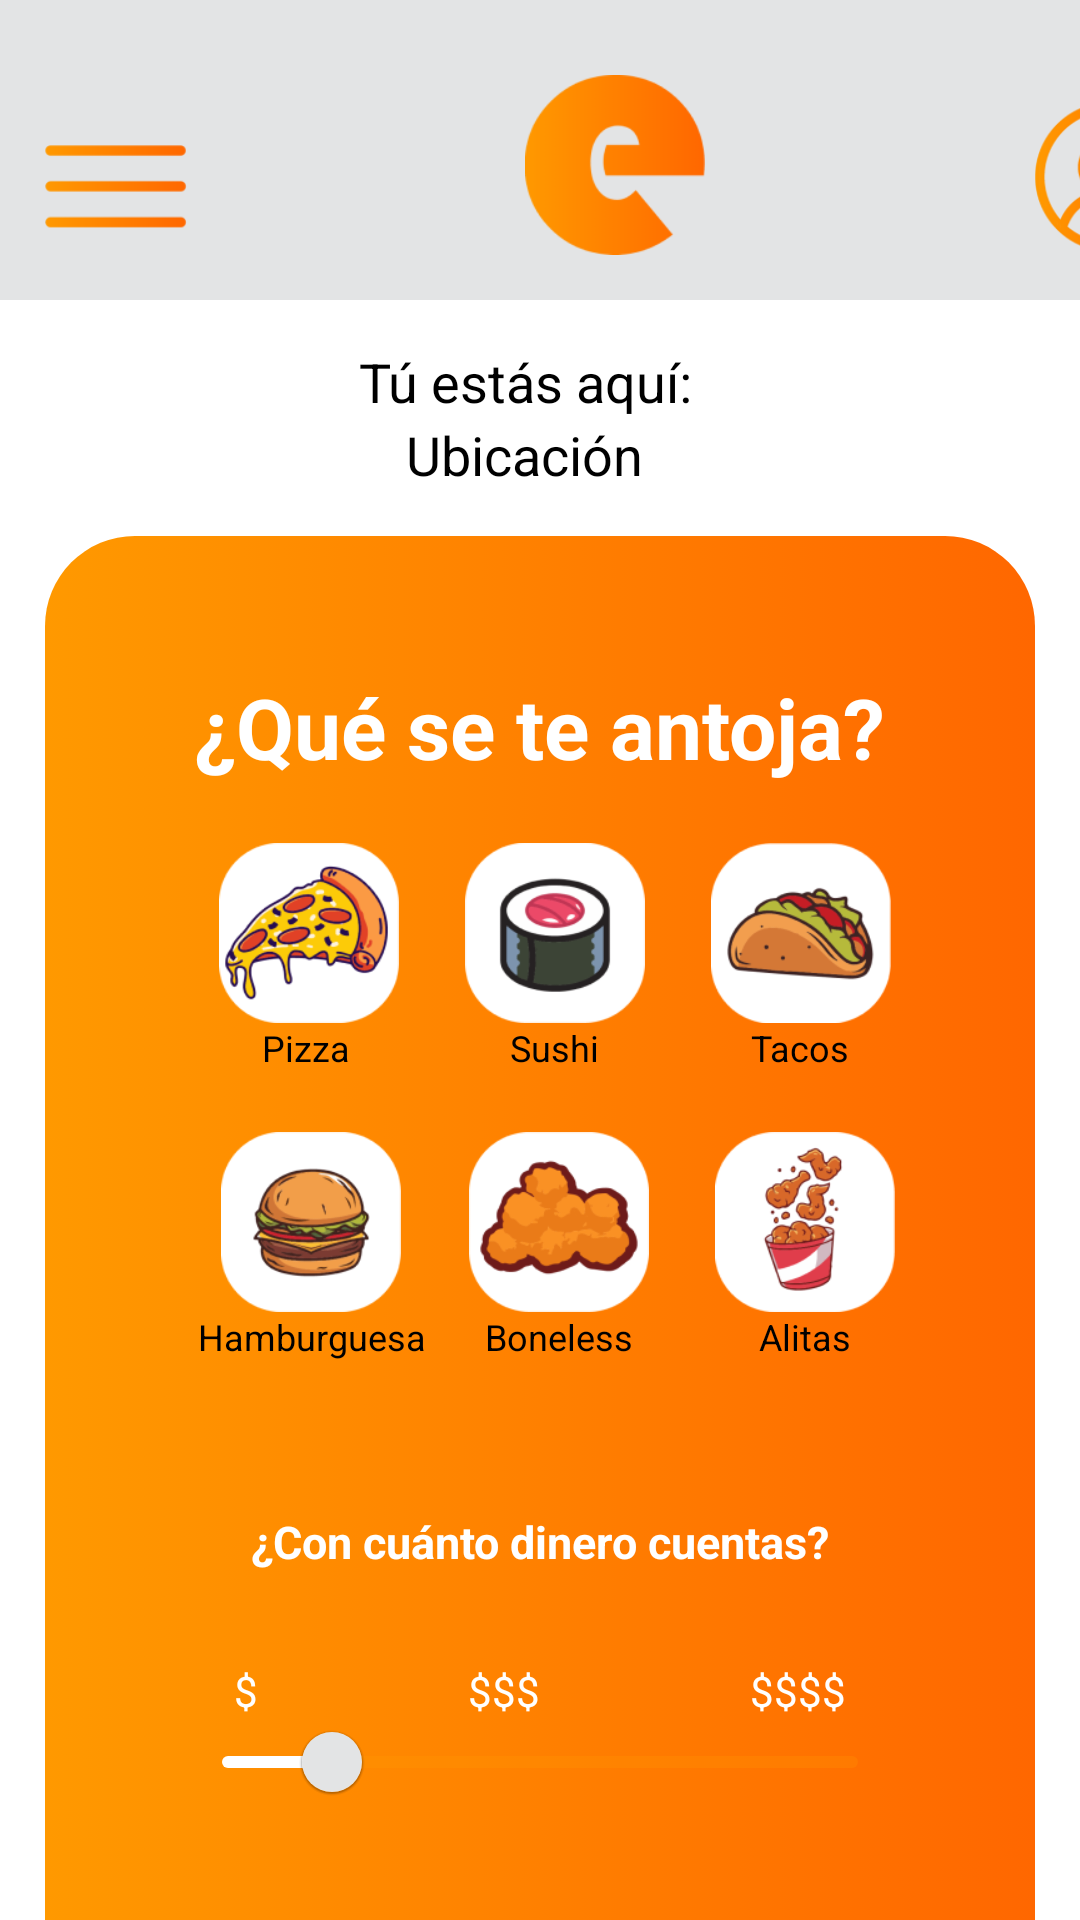

Screen size 1080px×1920px. Icon name, then its box in pixels as (x1, y1, x2, y2):
tresbarras: (45, 145, 186, 228)
